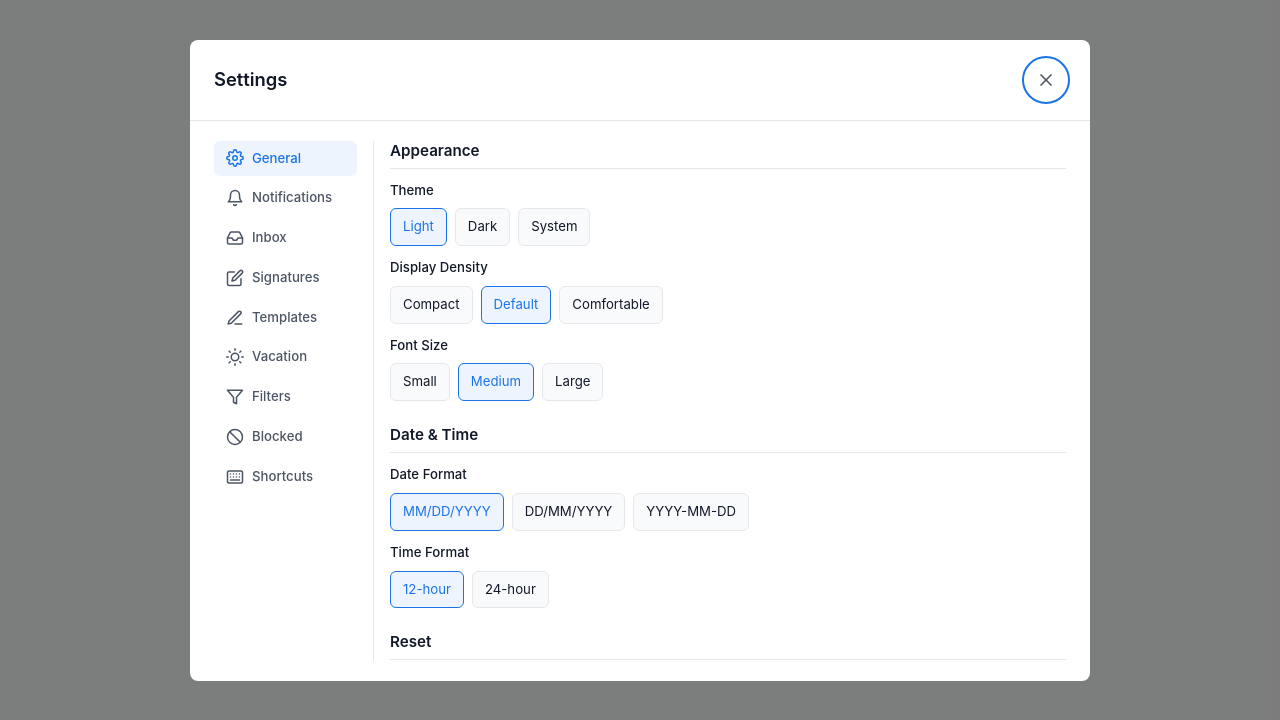
Scenario: SettingsModal - Tab navigation › switches to Inbox tab when clicked
What coordinates should you click on to do the following:
click the button "Inbox"
I would click on:
 (286, 238)
Its box is [214,220,357,256].
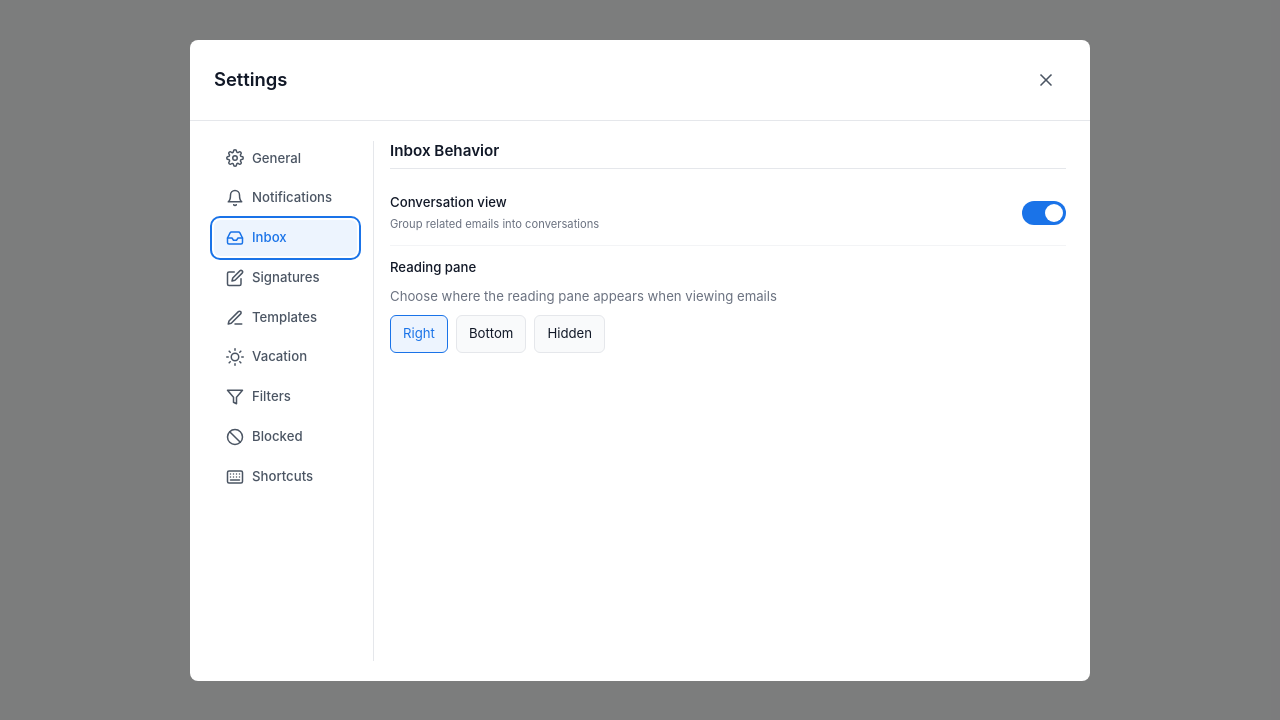
Check: the text "Conversation view" is shown, box [390,194,507,210]
